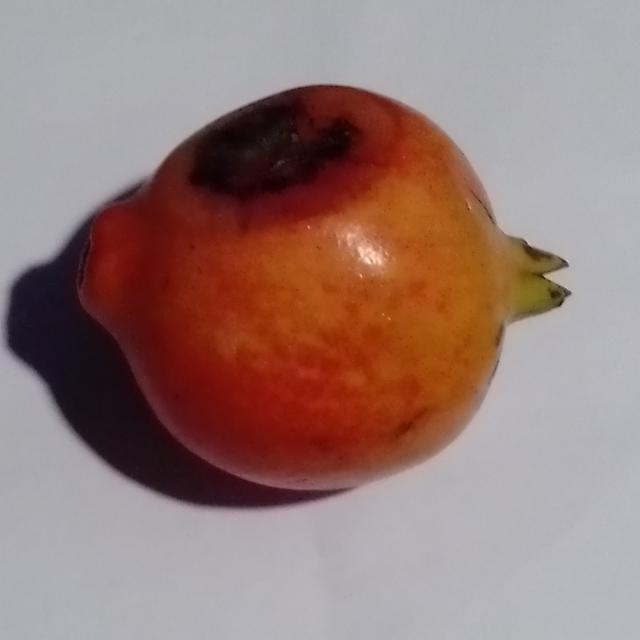Rotten: (70, 78, 573, 497)
